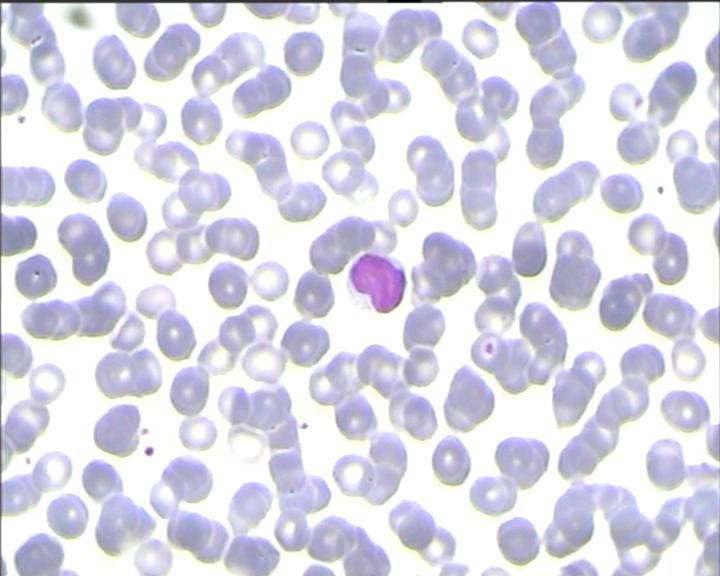lymp: (346, 248, 412, 319)
